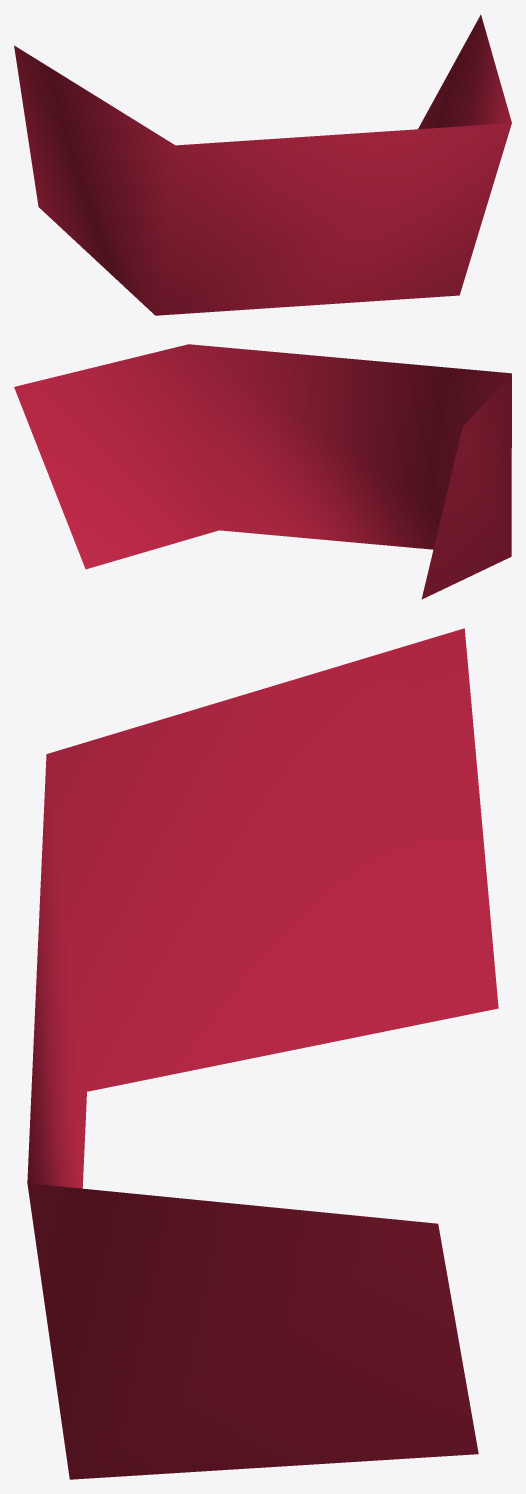
3 views of the same model, one above another, from view 1: azimuth 30°, elevation 25°; view 2: azimuth 150°, elevation 25°; view 3: azimuth 270°, elevation 25° (orthographic). The views are drawn at different scales.
Visible parts, largest first — view 1: ef_456; view 2: ef_456; view 3: ef_456.
Boxes of the visible parts, x1=… form: ef_456: x1=14, y1=14, x2=511, y2=315; ef_456: x1=14, y1=344, x2=511, y2=599; ef_456: x1=27, y1=628, x2=498, y2=1479.
Bounding box in the file's own units: 0.8451 × 0.459 × 0.3787.
1 material, 1 textured.
